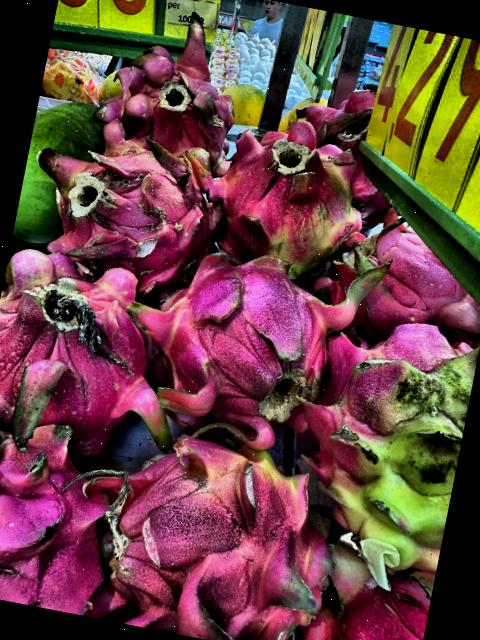buah-naga-belum-matang: (279, 306, 480, 570), (205, 116, 369, 282)
buah-naga-matang: (89, 419, 353, 640), (131, 228, 352, 440), (0, 230, 183, 457), (32, 115, 218, 285), (0, 410, 129, 617), (276, 77, 432, 228), (91, 17, 246, 165), (327, 199, 480, 334)
